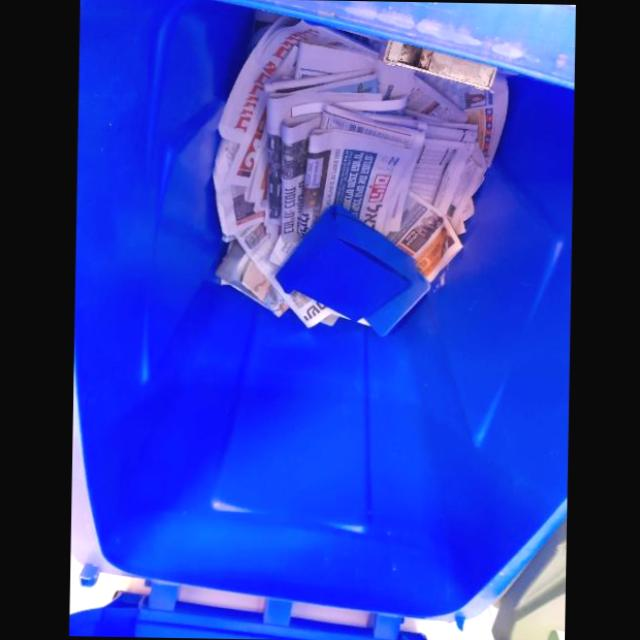carton: (274, 201, 433, 336)
giay: (216, 21, 376, 144), (297, 132, 416, 239), (234, 222, 340, 330), (263, 65, 413, 136), (417, 67, 506, 170), (412, 120, 488, 236), (386, 186, 464, 284), (296, 43, 415, 100), (411, 118, 477, 215), (209, 138, 267, 242), (228, 102, 280, 212), (281, 114, 324, 242), (216, 244, 289, 319), (319, 103, 426, 153), (403, 74, 468, 123), (268, 134, 284, 224)
